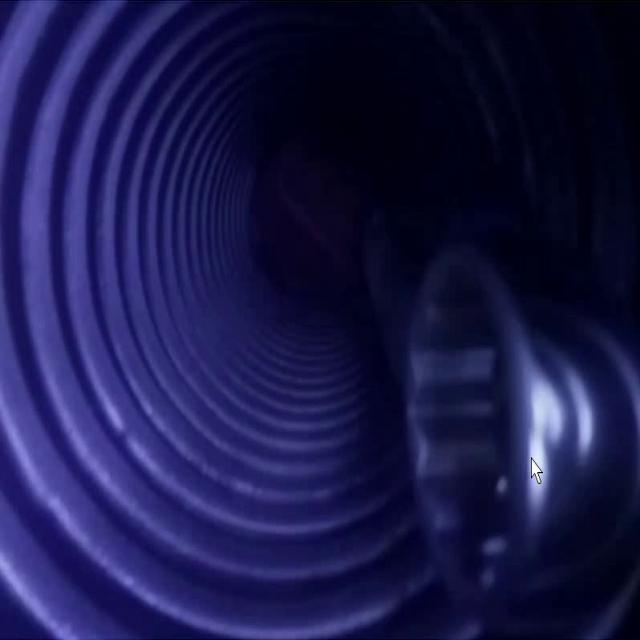metal piece: (405, 240, 640, 609)
